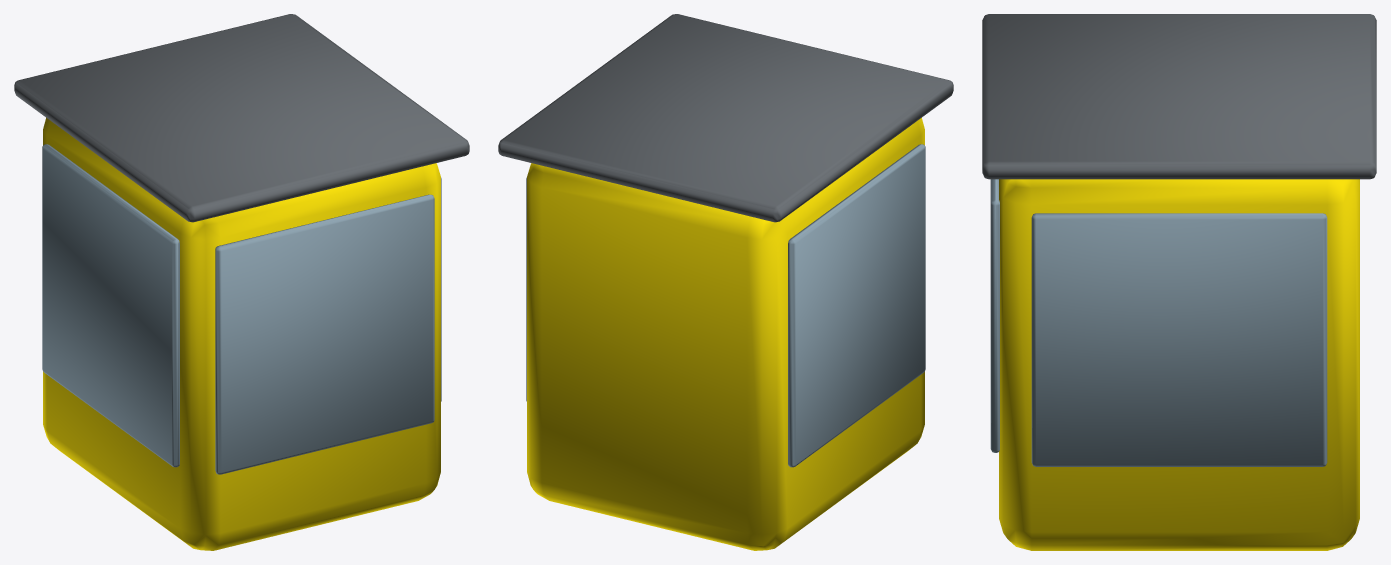
Rendered from crane_cab.glb.
3 renders of one model, left to right at view 1: azimuth 30°, elevation 25°; view 2: azimuth 150°, elevation 25°; view 3: azimuth 270°, elevation 25°, orthographic. The views are drawn at different scales.
Visible parts, largest first — view 1: Body; view 2: Body; view 3: Body.
Boxes of the visible parts, x1,y1,x2,y2 form: Body: (14, 14, 469, 550); Body: (498, 14, 953, 550); Body: (982, 14, 1376, 550).
Bounding box in the file's own units: 1.1 × 1.36 × 1.2.
